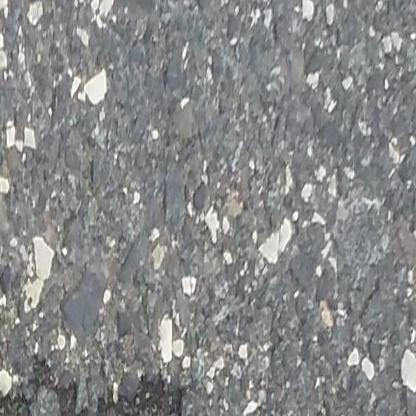Cracks: (0, 356, 197, 416)
